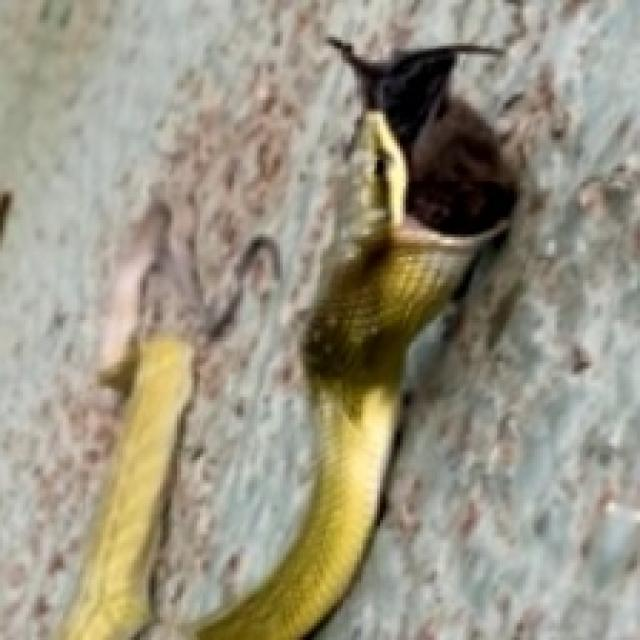red-tailed green ratsnake: (198, 110, 495, 639), (57, 329, 194, 637)
